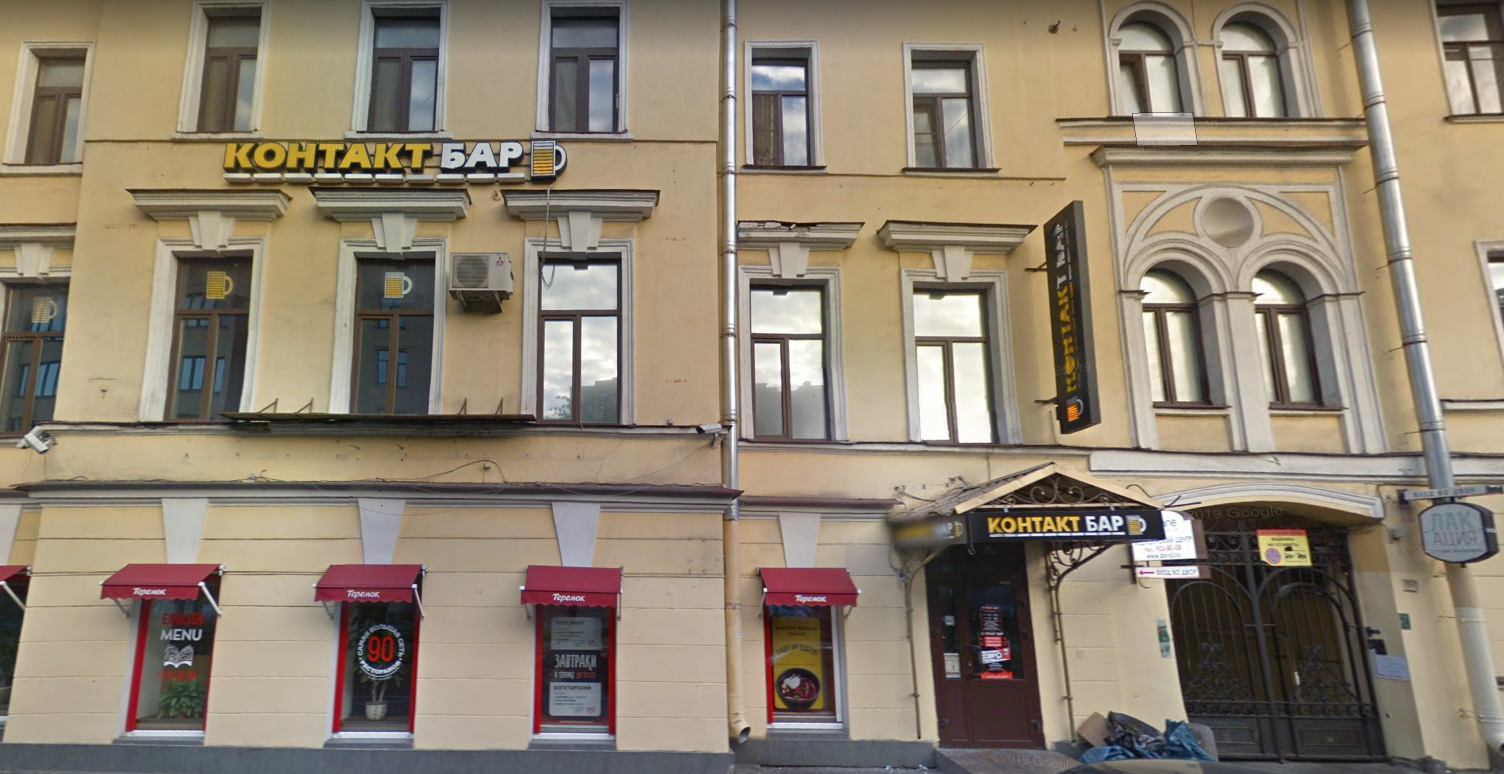arch: (1151, 498, 1405, 765)
cantilever: (1028, 202, 1099, 437), (1396, 472, 1498, 582), (1122, 487, 1208, 590)
door: (934, 550, 1030, 747)
signboard: (222, 135, 563, 186), (982, 512, 1127, 540)
window: (531, 257, 624, 424), (910, 286, 1007, 443), (345, 249, 432, 411), (167, 260, 251, 421), (120, 593, 213, 734), (1138, 260, 1216, 411), (750, 284, 825, 438), (330, 604, 415, 733), (1252, 269, 1329, 408), (533, 605, 613, 735), (906, 48, 985, 172), (548, 7, 622, 134), (195, 3, 263, 135), (5, 275, 59, 441), (1116, 8, 1195, 116), (764, 606, 835, 726), (1217, 9, 1292, 117), (370, 11, 437, 129), (21, 49, 87, 168), (747, 55, 813, 165)
